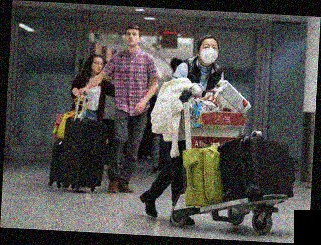with_mask: (199, 41, 219, 65)
without_mask: (125, 29, 141, 48), (90, 57, 105, 74)
